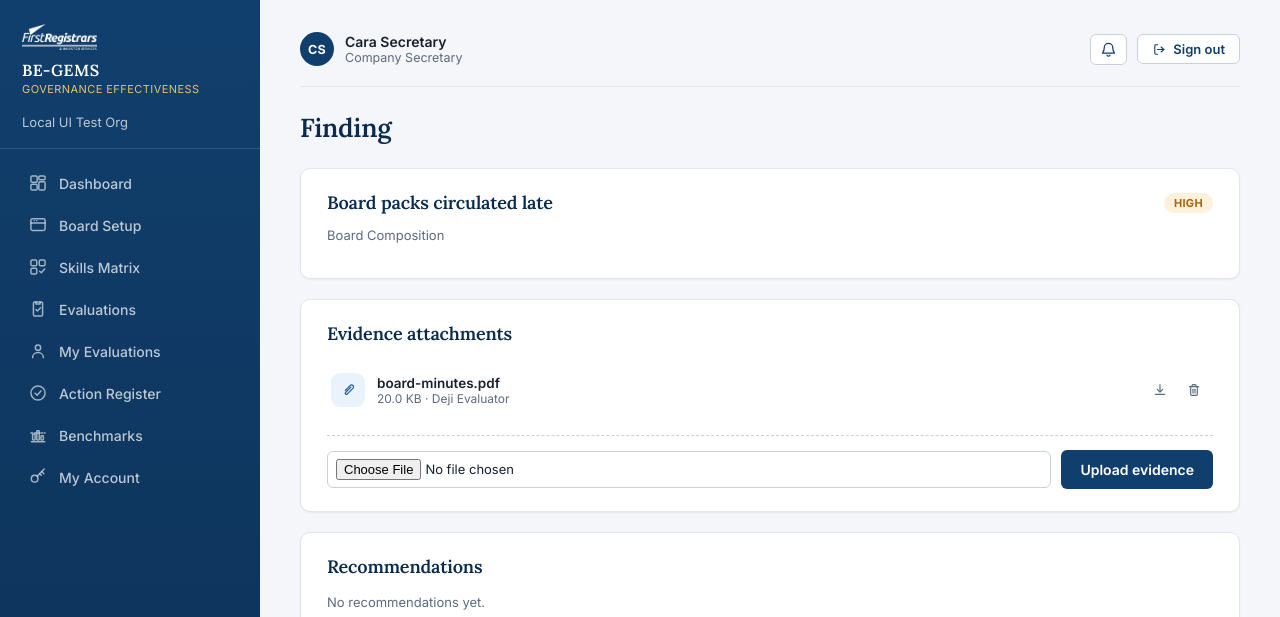
Test: FindingDetailPage evidence attachments › deletes an attachment
Expected: the text "board-minutes.pdf" is shown, [377,374,500,390]
Click the button titled "Delete" at coordinates (1194, 390), box [1179,375,1209,405]
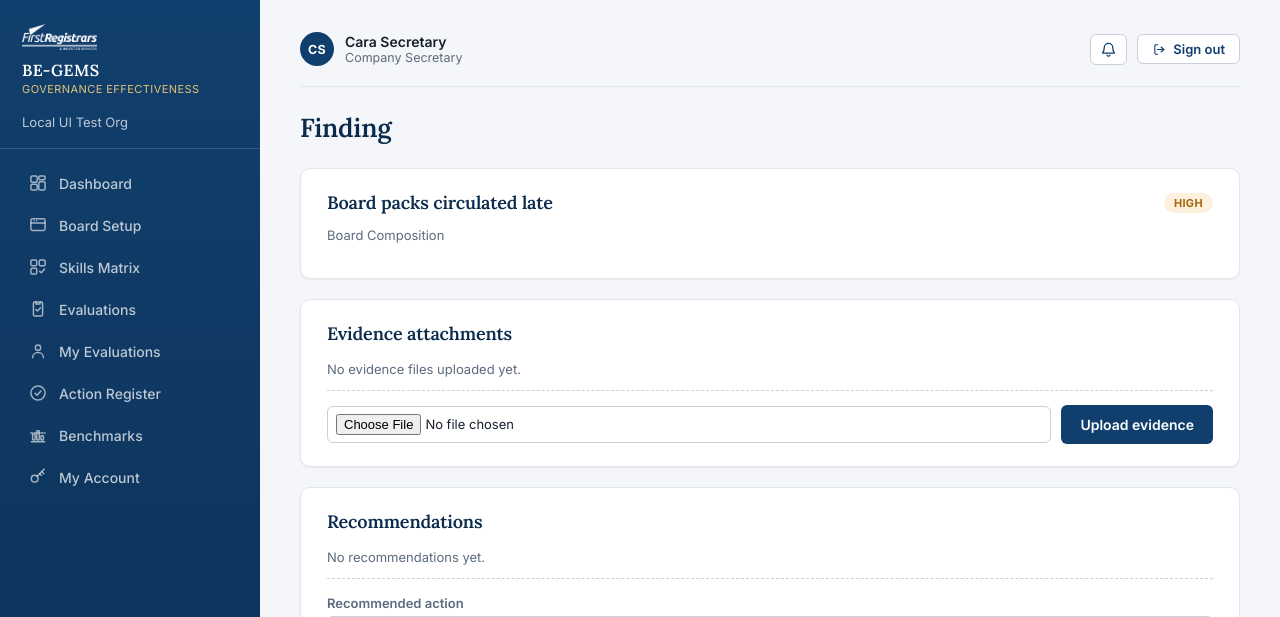
Result: the text "board-minutes.pdf" is gone
